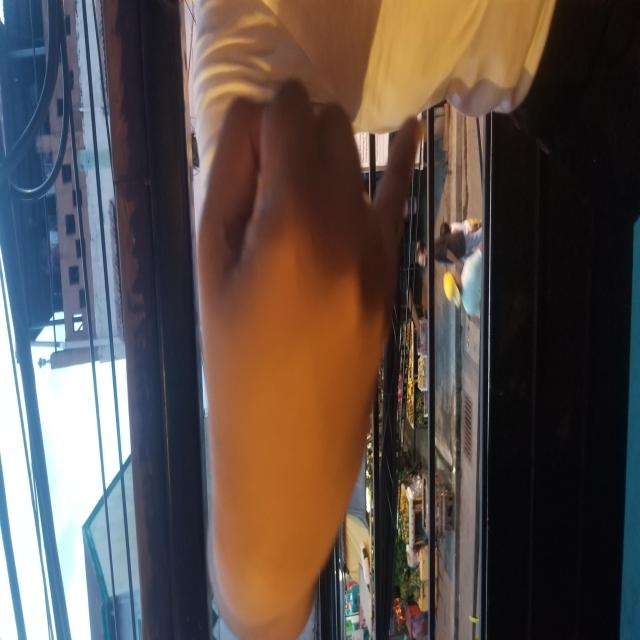J: (168, 40, 435, 598)
